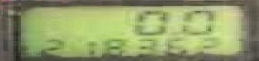-: (165, 28, 177, 34)
0: (129, 8, 165, 34), (180, 8, 211, 33)
1: (82, 37, 97, 57)
2: (33, 36, 66, 57), (195, 36, 221, 56)
3: (132, 36, 155, 56)
6: (163, 36, 191, 57)
8: (99, 37, 127, 56)
